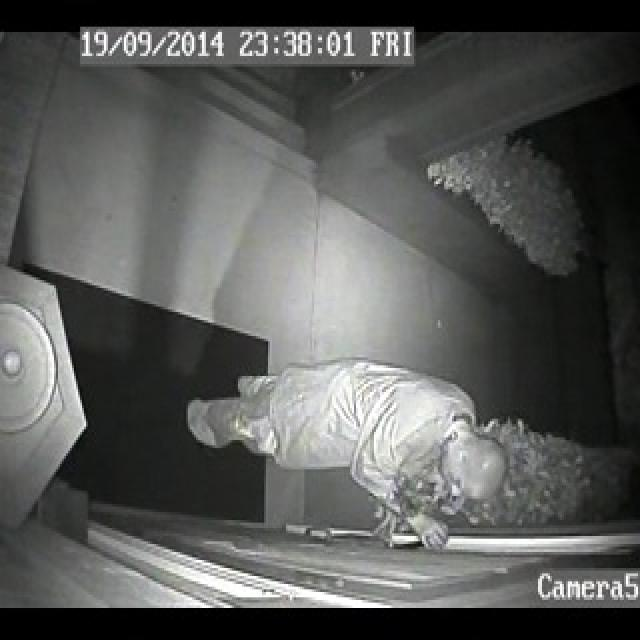burglary: (278, 376, 471, 571)
